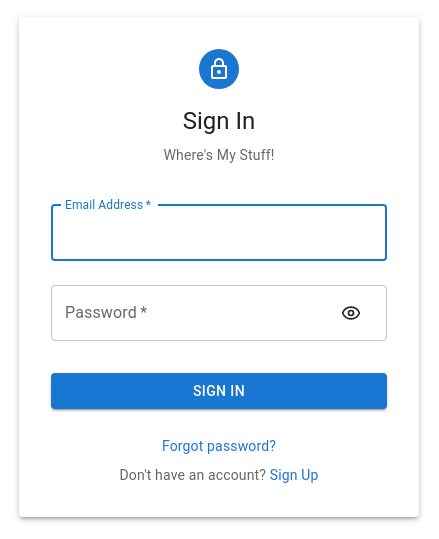
Preservation Property Tests: Authentication Flow Behavior › should display TOTP verification form for TOTP_MFA challenge
The image size is (439, 539).
Type "test@example.com" into the field labelled "Email Address *" at (219, 233), box [51,205,387,261]
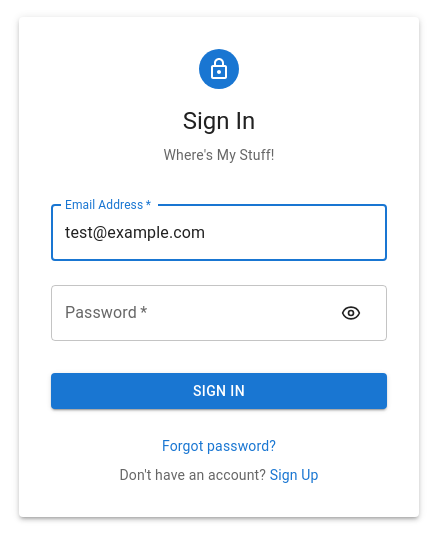
Type "ValidPassword123!" into the password field labelled "Password *" at (190, 313), box [51,285,329,341]
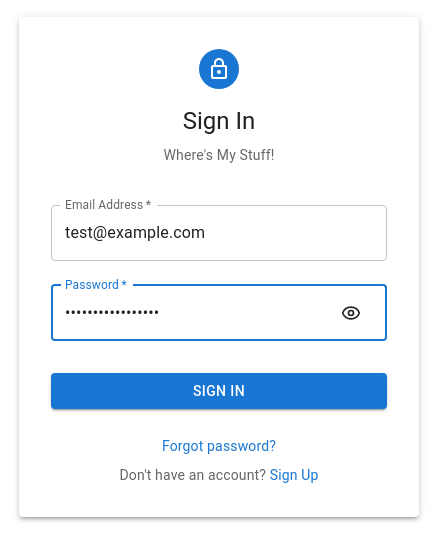
Submit form
Click the button "Sign In" at (219, 391), box [51,373,387,410]
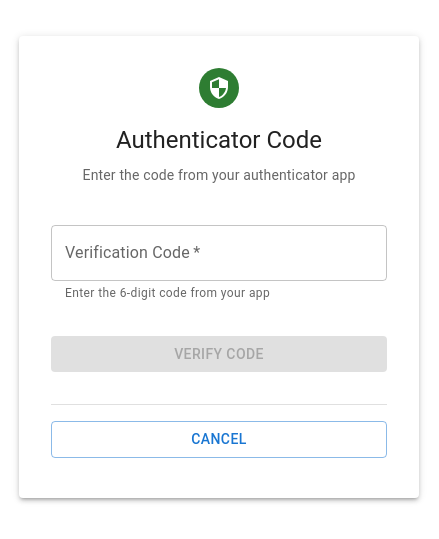
Expected: the heading "Authenticator Code" is shown, [116,124,322,156]
Expected: the field labelled "Verification Code *" is shown, [51,225,387,281]
